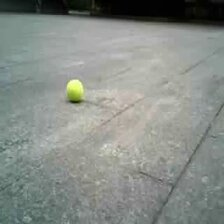tennis: (67, 80, 83, 101)
